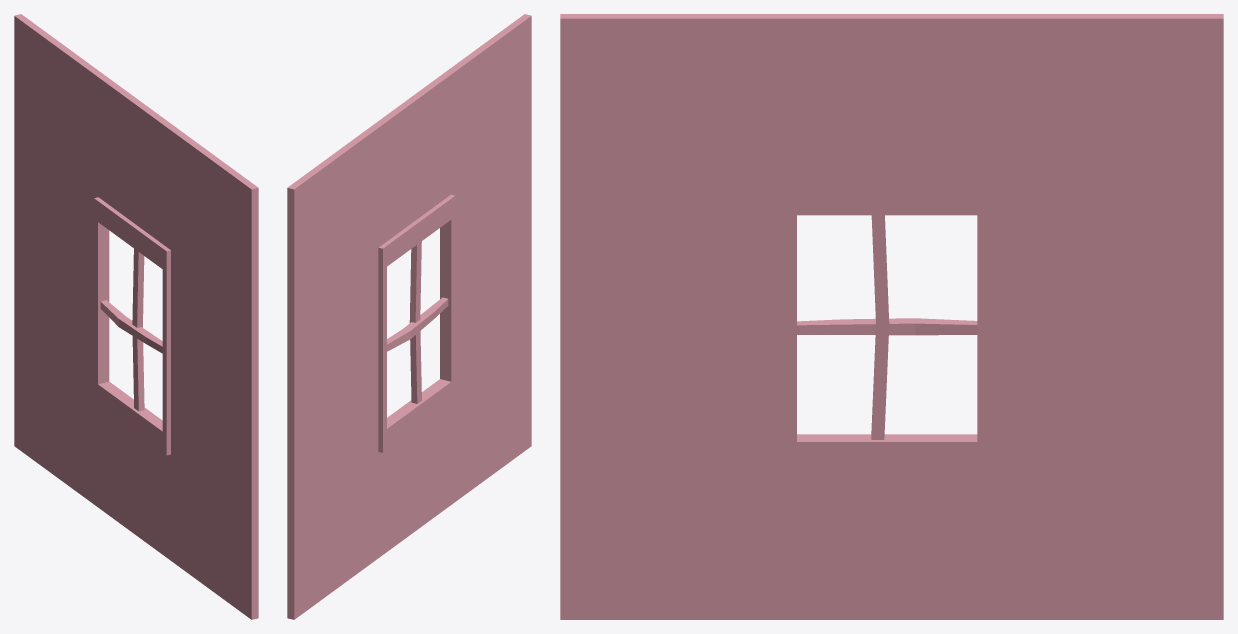
File: wall_window_smooth.glb
The picture shows the model from 3 angles, left to right: view 1: azimuth 30°, elevation 25°; view 2: azimuth 150°, elevation 25°; view 3: azimuth 270°, elevation 25°; orthographic projection. The views are drawn at different scales.
Visible parts, largest first — view 1: Cube; view 2: Cube; view 3: Cube.
Boxes of the visible parts, left/top/right/bottom form: Cube: left=14, top=14, right=258, bottom=619; Cube: left=287, top=14, right=531, bottom=619; Cube: left=560, top=14, right=1223, bottom=619.
Size of the model in its own units: 0.2287 by 7.23 by 7.23.
